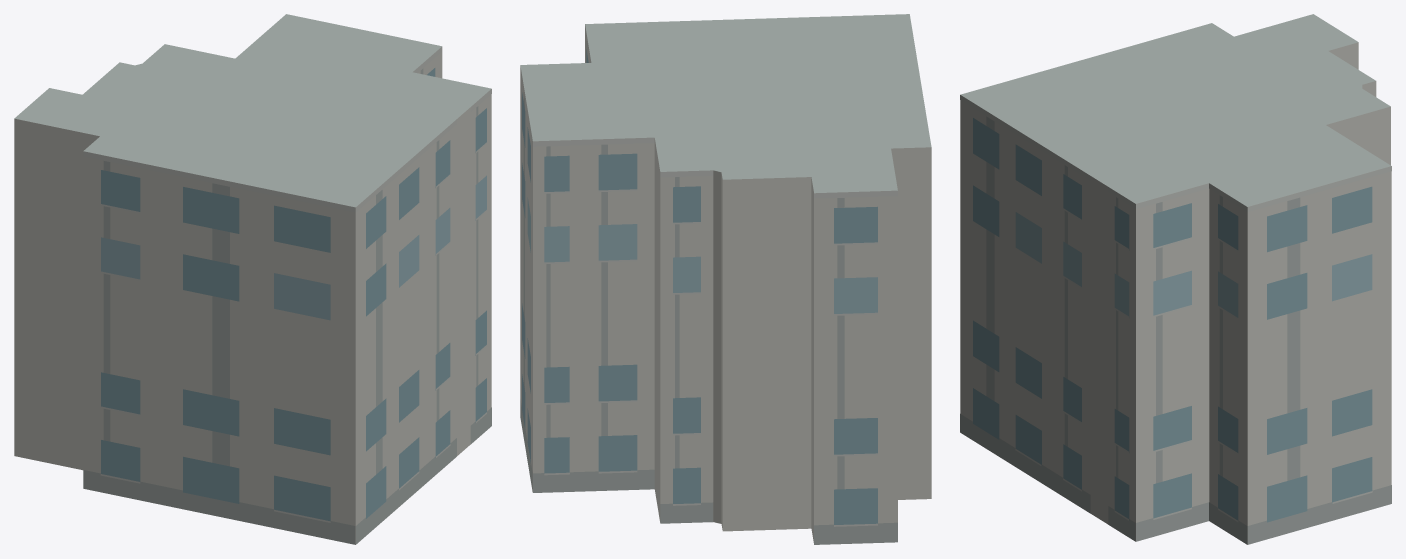
Rendered from survey-upis-32564361.glb.
3 renders of one model, left to right at view 1: azimuth 30°, elevation 25°; view 2: azimuth 150°, elevation 25°; view 3: azimuth 270°, elevation 25°, orthographic. The views are drawn at different scales.
Visible parts, largest first — view 1: survey-upis-32564361.tmp; view 2: survey-upis-32564361.tmp; view 3: survey-upis-32564361.tmp.
Boxes of the visible parts, x1,y1,x2,y2 form: survey-upis-32564361.tmp: (14, 14, 491, 544); survey-upis-32564361.tmp: (520, 14, 931, 544); survey-upis-32564361.tmp: (960, 14, 1391, 544).
Bounding box in the file's own units: 18.7 × 15.25 × 17.66.
